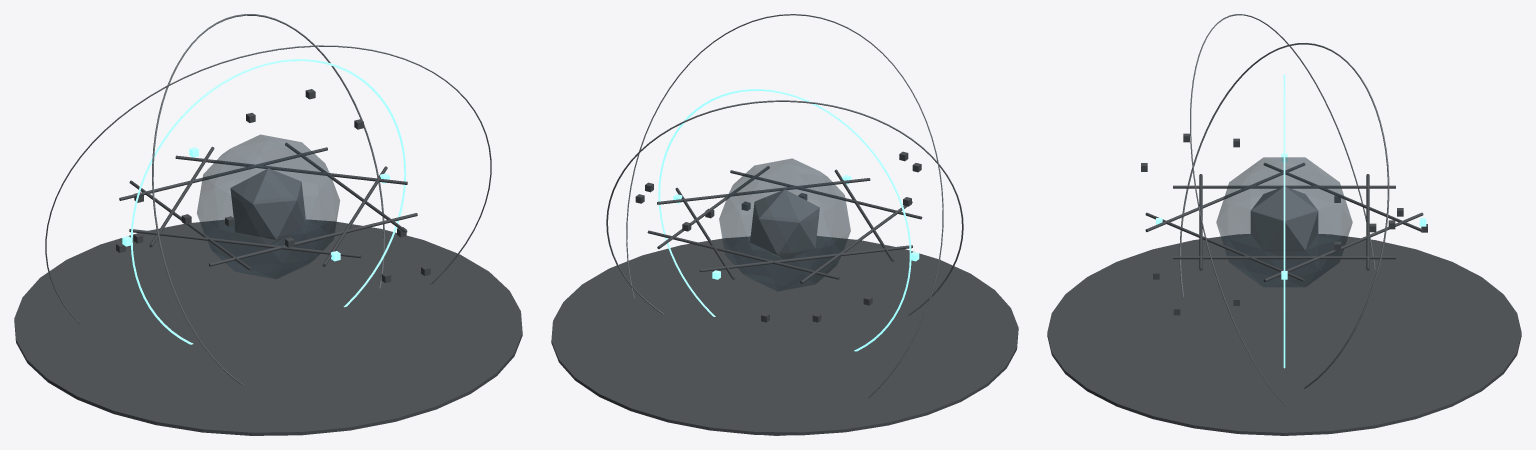
The model's file is computational-core.glb.
3 renders of one model, left to right at view 1: azimuth 30°, elevation 25°; view 2: azimuth 150°, elevation 25°; view 3: azimuth 270°, elevation 25°, orthographic. The views are drawn at different scales.
Visible parts, largest first — view 1: Plinth, GlassShell, CoreNode, Ring0, Ring1, Ring2, ComputationalCore, Rod1, Rod5, Rod6, Rod2, Rod0 (+1 smaller); view 2: Plinth, GlassShell, CoreNode, Ring0, Ring2, Ring1, ComputationalCore, Rod3, Rod7, Rod2, Rod6; view 3: Plinth, GlassShell, CoreNode, Ring1, Ring2, ComputationalCore, Ring0, Rod0, Rod4, Rod5, Rod3, Rod7 (+1 smaller).
Boxes of the visible parts, box(x1,y1,x2,y2) form: Plinth: box(14, 219, 522, 435); GlassShell: box(197, 134, 339, 279); CoreNode: box(230, 168, 306, 244); Ring0: box(131, 59, 406, 344); Ring1: box(152, 14, 384, 384); Ring2: box(45, 45, 491, 323); ComputationalCore: box(116, 89, 430, 282); Rod1: box(175, 155, 407, 184); Rod5: box(129, 229, 361, 258); Rod6: box(209, 213, 417, 266); Rod2: box(119, 147, 327, 200); Rod0: box(285, 142, 407, 233); Plinth: box(551, 236, 1018, 435); GlassShell: box(719, 158, 850, 291); CoreNode: box(750, 189, 819, 259); Ring0: box(658, 89, 911, 351); Ring2: box(626, 14, 943, 435); Ring1: box(606, 100, 963, 315); ComputationalCore: box(635, 151, 921, 322); Rod3: box(699, 245, 912, 271); Rod7: box(657, 178, 870, 204); Rod2: box(647, 230, 839, 279); Rod6: box(730, 170, 922, 219); Plinth: box(1047, 234, 1521, 435); GlassShell: box(1216, 157, 1352, 287); CoreNode: box(1250, 186, 1318, 256); Ring1: box(1179, 43, 1389, 388); Ring2: box(1190, 14, 1375, 406); ComputationalCore: box(1141, 133, 1427, 315); Ring0: box(1283, 74, 1285, 368); Rod0: box(1173, 256, 1395, 259); Rod4: box(1173, 185, 1395, 188); Rod5: box(1145, 163, 1305, 231); Rod3: box(1263, 163, 1423, 231); Rod7: box(1145, 212, 1305, 281).
Size of the model in its own units: 5 by 4.2 by 5.
